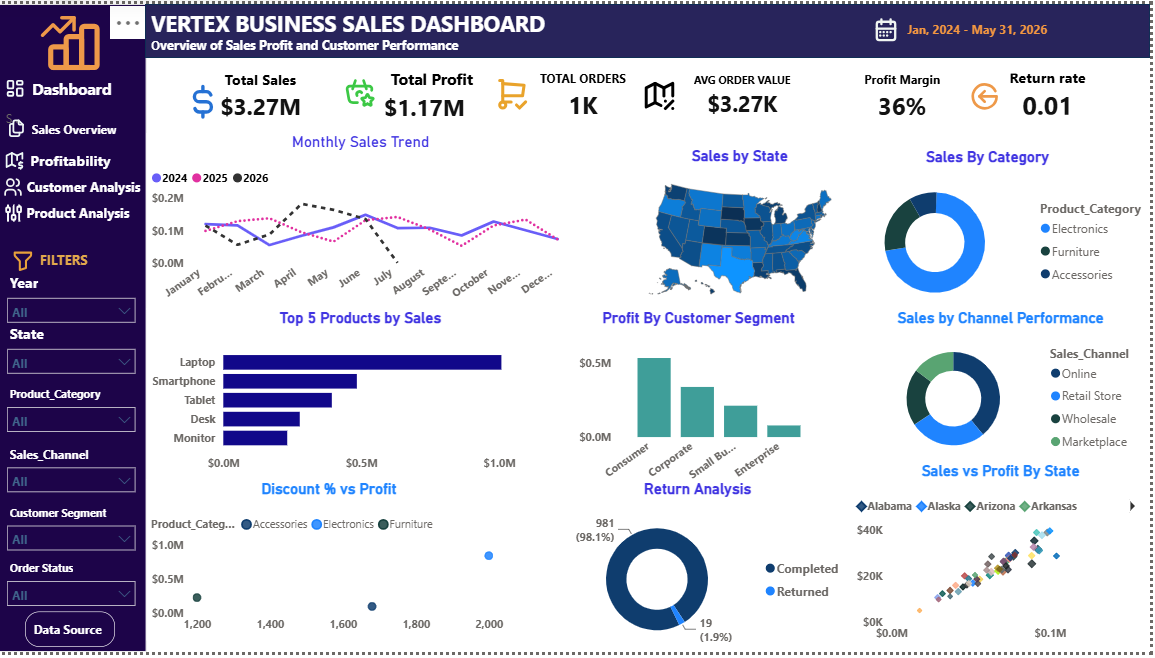

What the dashboard file says about the page in this screenshot:
{"tool":"powerbi","page":{"name":"Page 1","canvas":[1280,720],"ordinal":0},"visuals":[{"type":"shape","box":[0,0,164.3,720],"z":0},{"type":"actionButton","box":[0,71.4,30,38.6],"z":1000},{"type":"actionButton","box":[0,110,30,32.9],"z":2000},{"type":"actionButton","box":[0,142.9,30,31.4],"z":3000},{"type":"lineChart","title":"Monthly Sales Trend","fields":{"Y":["Sum(Sheet2.Sales)"],"Series":["Sheet2.Year"],"Category":["Sheet2.Order_Date.Variation.Date Hierarchy.Month"]},"box":[164.3,142.9,475.7,195.7],"z":4000},{"type":"clusteredBarChart","title":"Top 5 Products by Sales","fields":{"Category":["Sheet2.Product"],"Y":["Sum(Sheet2.Sales)"]},"box":[164.3,338.6,475.7,190],"z":5000},{"type":"donutChart","title":"Sales By Category","fields":{"Category":["Sheet2.Product_Category"],"Y":["Sum(Sheet2.Sales)"]},"box":[917.8,159.3,362.4,179.8],"z":6000},{"type":"clusteredColumnChart","title":"Profit By Customer Segment","fields":{"Category":["Sheet2.Customer_Segment"],"Y":["Sum(Sheet2.Profit)"]},"box":[640,338.6,277.1,202.9],"z":7000},{"type":"scatterChart","title":"Discount % vs Profit","fields":{"X":["Sum(Sheet2.Discount_Percent)"],"Y":["Sum(Sheet2.Profit)"],"Series":["Sheet2.Product_Category"]},"box":[164.3,528.6,405.7,178.6],"z":8000},{"type":"donutChart","title":"Return Analysis","fields":{"Category":["Sheet2.Order_Status"],"Y":["CountNonNull(Sheet2.Order_ID)"]},"box":[607.1,528.6,341.4,191.4],"z":9000},{"type":"scatterChart","title":"Sales vs Profit By State","fields":{"X":["Sum(Sheet2.Sales)"],"Y":["Sum(Sheet2.Profit)"],"Series":["Sheet2.State"],"Size":["CountNonNull(Sheet2.Order_ID)"]},"box":[948.6,508.6,331.4,208.6],"z":10000},{"type":"donutChart","title":"Sales by Channel Performance","fields":{"Category":["Sheet2.Sales_Channel"],"Y":["Sum(Sheet2.Sales)"]},"box":[948.6,338.6,331.4,170],"z":11000},{"type":"shapeMap","title":"Sales by State","fields":{"Category":["Sheet2.State"],"Value":["Sheet1.Total Sales"]},"box":[700,158.6,248.6,175.7],"z":12000},{"type":"shape","box":[163.7,0,1116.6,59.9],"z":13000},{"type":"textbox","box":[164.3,0,634.3,45.7],"z":14000},{"type":"textbox","box":[164.3,30,585.7,30],"z":15000},{"type":"cardVisual","fields":{"Data":["Sheet1.Total Sales"]},"box":[217.1,60,150,82.9],"z":16000},{"type":"cardVisual","fields":{"Data":["Sheet1.Total Profit"]},"box":[399.8,60.6,164.3,82.9],"z":17000},{"type":"cardVisual","fields":{"Data":["Sheet1.Total Orders"]},"box":[570,59.9,160,82.9],"z":18000},{"type":"cardVisual","fields":{"Data":["Sheet1.Average order value"]},"box":[733.7,59.9,187.1,82.9],"z":19000},{"type":"image","box":[382.9,61.4,36.5,71.6],"z":20000},{"type":"image","box":[549.5,80.4,42.4,40.9],"z":21000},{"type":"image","box":[710.3,81.8,49.7,39.5],"z":22000},{"type":"cardVisual","fields":{"Data":["Sheet1.Profit Margin"]},"box":[912,61.4,186.2,80.3],"z":23000},{"type":"cardVisual","fields":{"Data":["Sheet1.Return rate"]},"box":[1072.7,59.9,186.2,80.3],"z":24000},{"type":"image","box":[1077.1,84.8,39.5,35.1],"z":25000},{"type":"image","box":[30.7,13.2,108.1,68.7],"z":26000},{"type":"image","box":[40.9,1.5,51.2,46.8],"z":27000},{"type":"image","box":[5.8,80.4,24.8,27.8],"z":28000},{"type":"image","box":[8.8,121.3,23.4,32.2],"z":29000},{"type":"image","box":[7.3,149.1,23.4,49.7],"z":30000},{"type":"image","box":[4.4,175.4,23.4,57],"z":31000},{"type":"image","box":[4.4,194.4,24.8,74.5],"z":32000},{"type":"image","box":[967.5,13.2,39.5,30.7],"z":33000},{"type":"textbox","box":[1005.7,12.9,241.4,30],"z":34000},{"type":"slicer","fields":{"Values":["Sheet2.Year"]},"box":[0,292.9,162.9,67.1],"z":35000},{"type":"slicer","fields":{"Values":["Sheet2.State"]},"box":[0,350,162.9,68.6],"z":36000},{"type":"slicer","fields":{"Values":["Sheet2.Product_Category"]},"box":[0,420,162.9,64.3],"z":37000},{"type":"slicer","fields":{"Values":["Sheet2.Sales_Channel"]},"box":[0,484.3,162.9,67.1],"z":38000},{"type":"slicer","fields":{"Values":["Sheet2.Customer_Segment"]},"box":[0,551.4,162.9,65.7],"z":39000},{"type":"slicer","fields":{"Values":["Sheet2.Order_Status"]},"box":[0,612.9,162.9,64.3],"z":40000},{"type":"textbox","box":[41.4,268.6,110,37.1],"z":41000},{"type":"image","box":[12.9,271.4,28.6,27.1],"z":42000},{"type":"image","box":[204.6,77.5,45.3,64.3],"z":43000},{"type":"actionButton","box":[27.5,117.5,107.5,40],"z":44000},{"type":"actionButton","box":[30.7,153.5,99.4,39.5],"z":45000},{"type":"actionButton","box":[24.8,184.1,137.4,39.5],"z":46000},{"type":"actionButton","box":[21.9,211.9,128.6,39.5],"z":47000},{"type":"actionButton","box":[31.7,76.7,98.3,35],"z":48000},{"type":"actionButton","box":[30.3,675.3,99.9,39.4],"z":49000}]}

Visuals, with their boxes on the page's 1280x720 design canvas (x1, y1, x2, y2). These are canvas units, not pixel positions in the 1155x658 screenshot, which may show the page scaled, cropped or inside an application window:
shape: locate(0, 0, 164, 720)
actionButton: locate(0, 71, 30, 110)
actionButton: locate(0, 110, 30, 143)
actionButton: locate(0, 143, 30, 174)
"Monthly Sales Trend" lineChart: locate(164, 143, 640, 339)
"Top 5 Products by Sales" clusteredBarChart: locate(164, 339, 640, 529)
"Sales By Category" donutChart: locate(918, 159, 1280, 339)
"Profit By Customer Segment" clusteredColumnChart: locate(640, 339, 917, 542)
"Discount % vs Profit" scatterChart: locate(164, 529, 570, 707)
"Return Analysis" donutChart: locate(607, 529, 948, 720)
"Sales vs Profit By State" scatterChart: locate(949, 509, 1280, 717)
"Sales by Channel Performance" donutChart: locate(949, 339, 1280, 509)
"Sales by State" shapeMap: locate(700, 159, 949, 334)
shape: locate(164, 0, 1280, 60)
textbox: locate(164, 0, 799, 46)
textbox: locate(164, 30, 750, 60)
cardVisual - Sheet1.Total Sales: locate(217, 60, 367, 143)
cardVisual - Sheet1.Total Profit: locate(400, 61, 564, 144)
cardVisual - Sheet1.Total Orders: locate(570, 60, 730, 143)
cardVisual - Sheet1.Average order value: locate(734, 60, 921, 143)
image: locate(383, 61, 419, 133)
image: locate(550, 80, 592, 121)
image: locate(710, 82, 760, 121)
cardVisual - Sheet1.Profit Margin: locate(912, 61, 1098, 142)
cardVisual - Sheet1.Return rate: locate(1073, 60, 1259, 140)
image: locate(1077, 85, 1117, 120)
image: locate(31, 13, 139, 82)
image: locate(41, 2, 92, 48)
image: locate(6, 80, 31, 108)
image: locate(9, 121, 32, 154)
image: locate(7, 149, 31, 199)
image: locate(4, 175, 28, 232)
image: locate(4, 194, 29, 269)
image: locate(968, 13, 1007, 44)
textbox: locate(1006, 13, 1247, 43)
slicer - Sheet2.Year: locate(0, 293, 163, 360)
slicer - Sheet2.State: locate(0, 350, 163, 419)
slicer - Sheet2.Product_Category: locate(0, 420, 163, 484)
slicer - Sheet2.Sales_Channel: locate(0, 484, 163, 551)
slicer - Sheet2.Customer_Segment: locate(0, 551, 163, 617)
slicer - Sheet2.Order_Status: locate(0, 613, 163, 677)
textbox: locate(41, 269, 151, 306)
image: locate(13, 271, 42, 298)
image: locate(205, 78, 250, 142)
actionButton: locate(28, 118, 135, 158)
actionButton: locate(31, 154, 130, 193)
actionButton: locate(25, 184, 162, 224)
actionButton: locate(22, 212, 150, 251)
actionButton: locate(32, 77, 130, 112)
actionButton: locate(30, 675, 130, 715)
